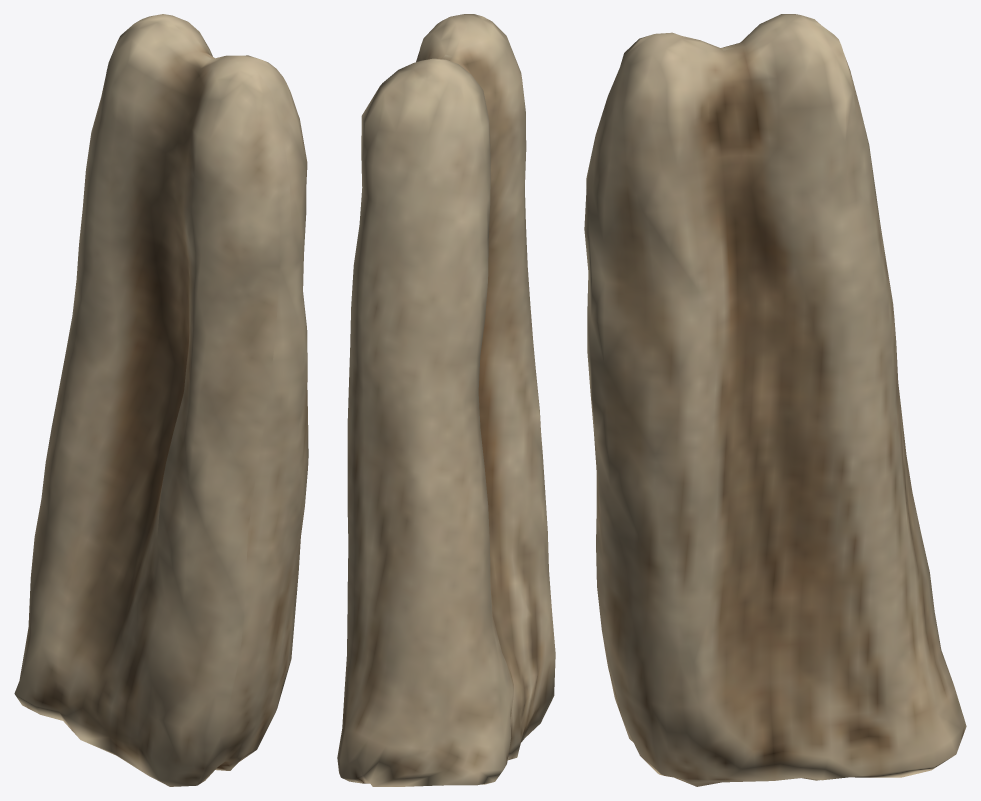
The model's file is Maxilary_Premolar5.glb.
3 renders of one model, left to right at view 1: azimuth 30°, elevation 25°; view 2: azimuth 150°, elevation 25°; view 3: azimuth 270°, elevation 25°, orthographic. The views are drawn at different scales.
Parts seen in each view (by area): view 1: Group57220_Mesh.071; view 2: Group57220_Mesh.071; view 3: Group57220_Mesh.071.
Part boxes in pixels (x1,y1,x2,y2): Group57220_Mesh.071: [14, 14, 308, 786]; Group57220_Mesh.071: [337, 14, 555, 786]; Group57220_Mesh.071: [584, 14, 966, 786].
Bounding box in the file's own units: 0.0228 × 0.0797 × 0.036.
Materials: 1 (1 with a texture image).
